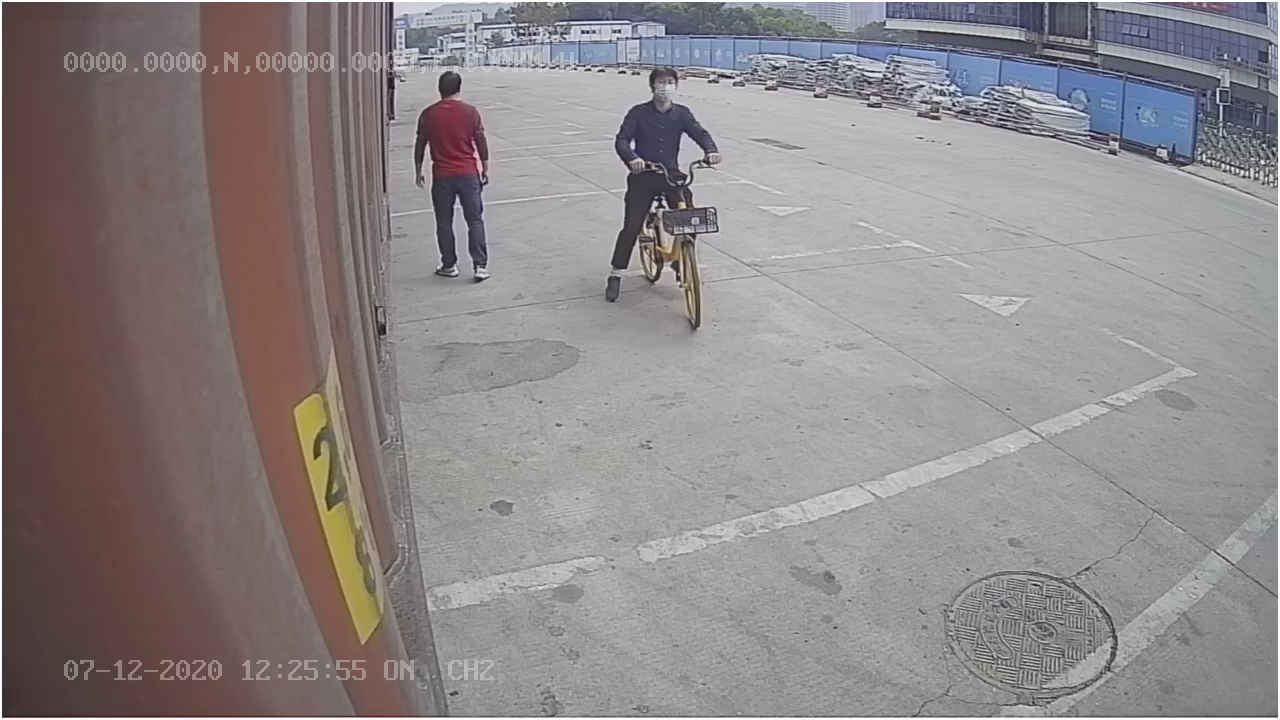person: (409, 67, 496, 284)
